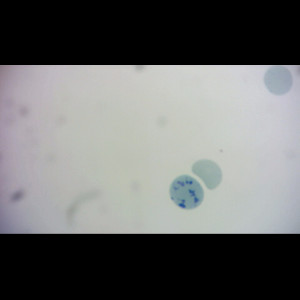aggregate reticulocyte: (168, 173, 206, 211)
erythrocyte: (190, 158, 223, 191), (262, 65, 296, 97)
